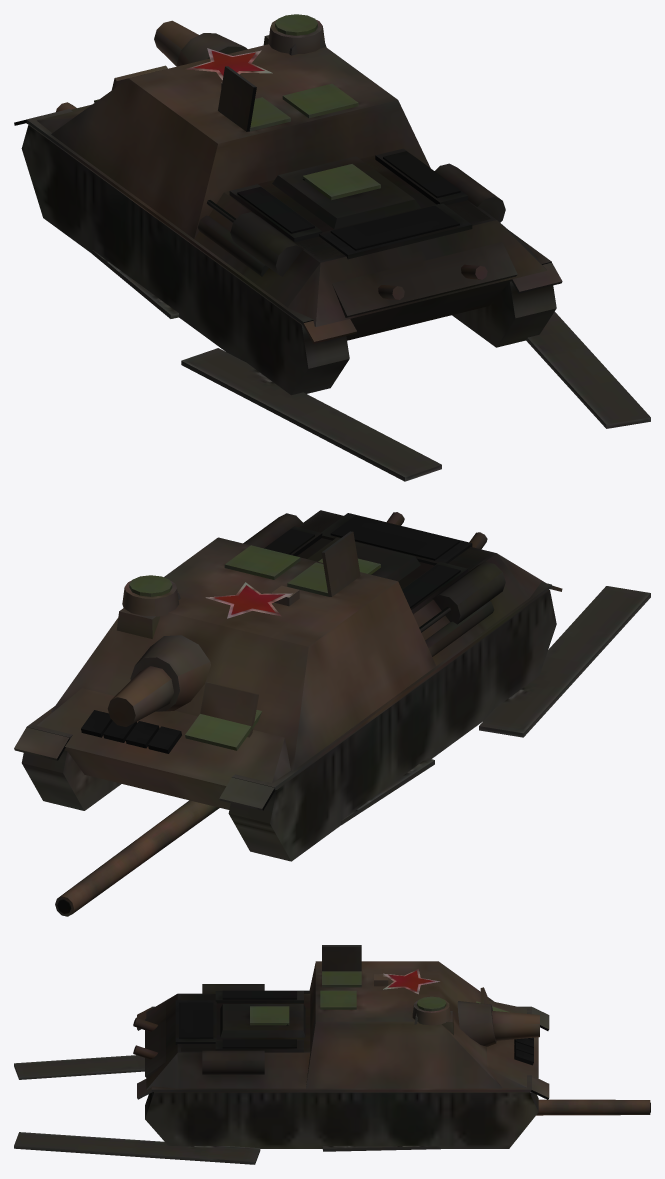
3 renders of one model, top to bottom at view 1: azimuth 30°, elevation 25°; view 2: azimuth 150°, elevation 25°; view 3: azimuth 270°, elevation 25°, orthographic. The views are drawn at different scales.
Visible parts, largest first — view 1: hull_ko, hull_trackL, hull_trackR, hull_ok; view 2: hull_ko, hull_trackL, hull_ok, gun_ko; view 3: hull_ko, hull_trackR, hull_ok, hull_trackL, gun_ko.
Part boxes in pixels (box(x1,y1,x2,y2)): hull_ko: box(14, 20, 562, 395); hull_trackL: box(92, 250, 441, 481); hull_trackR: box(526, 311, 650, 428); hull_ok: box(94, 14, 380, 200); hull_ko: box(14, 510, 562, 861); hull_trackL: box(341, 586, 650, 825); hull_ok: box(129, 545, 380, 750); gun_ko: box(55, 800, 219, 916); hull_ko: box(133, 945, 549, 1148); hull_trackR: box(14, 1132, 440, 1164); hull_ok: box(250, 971, 509, 1025); hull_trackL: box(14, 1055, 144, 1079); gun_ko: box(536, 1099, 650, 1115).
Size of the model in its own units: 4.14 by 2.86 by 9.71.
Materials: 16 (16 with a texture image).
